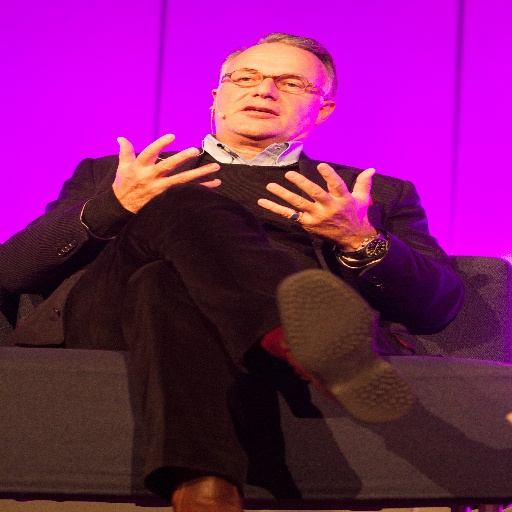hand: (256, 160, 375, 248), (94, 130, 216, 203)
